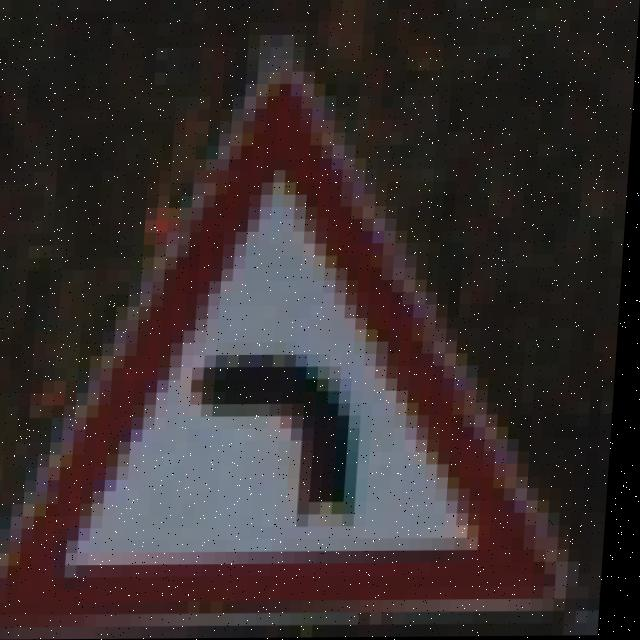left_turn: (0, 88, 596, 626)
